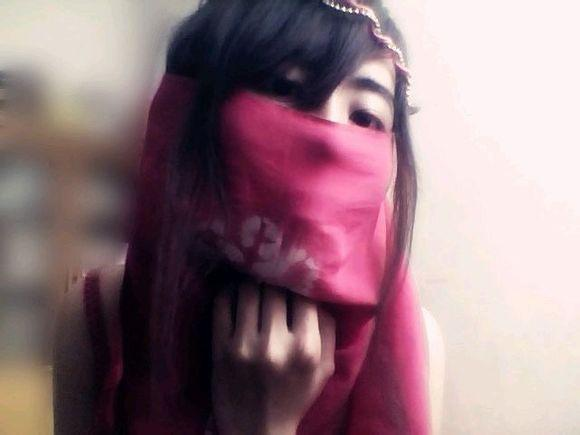OK: (228, 58, 399, 244)
